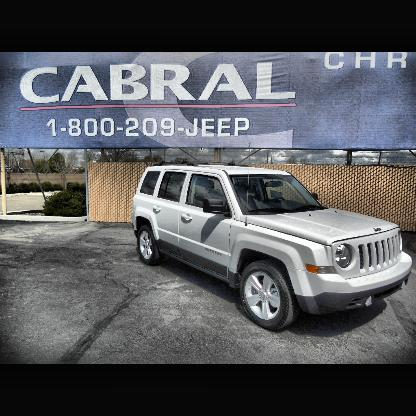Jeep Patriot SUV 2012: (135, 164, 414, 332)
